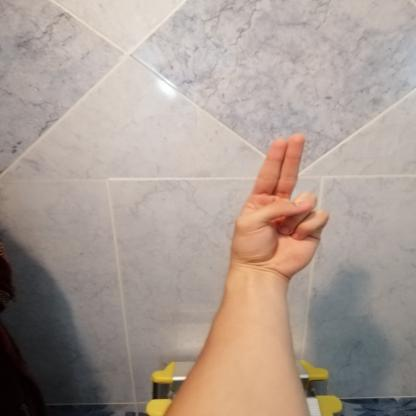TA: (220, 122, 344, 284)
